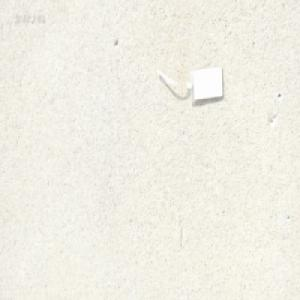LuggageTag: (154, 63, 225, 105)
